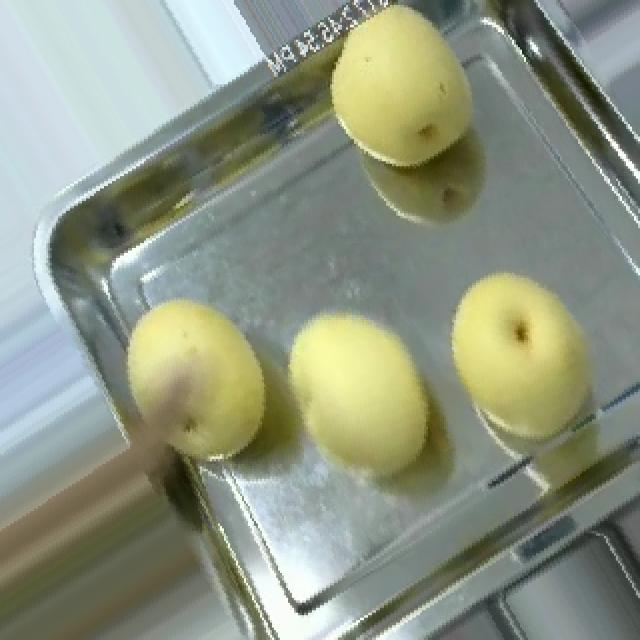Fruit: (0, 404, 232, 640), (96, 280, 282, 489), (432, 253, 616, 461), (268, 295, 450, 504), (310, 0, 490, 181)
